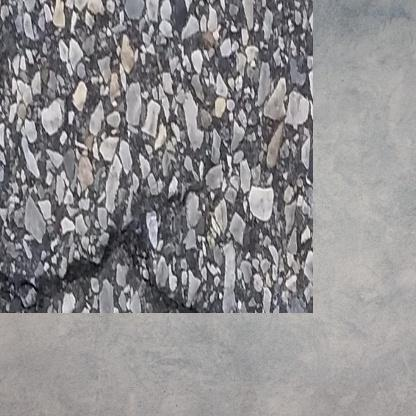Cracks: (0, 152, 209, 289)
